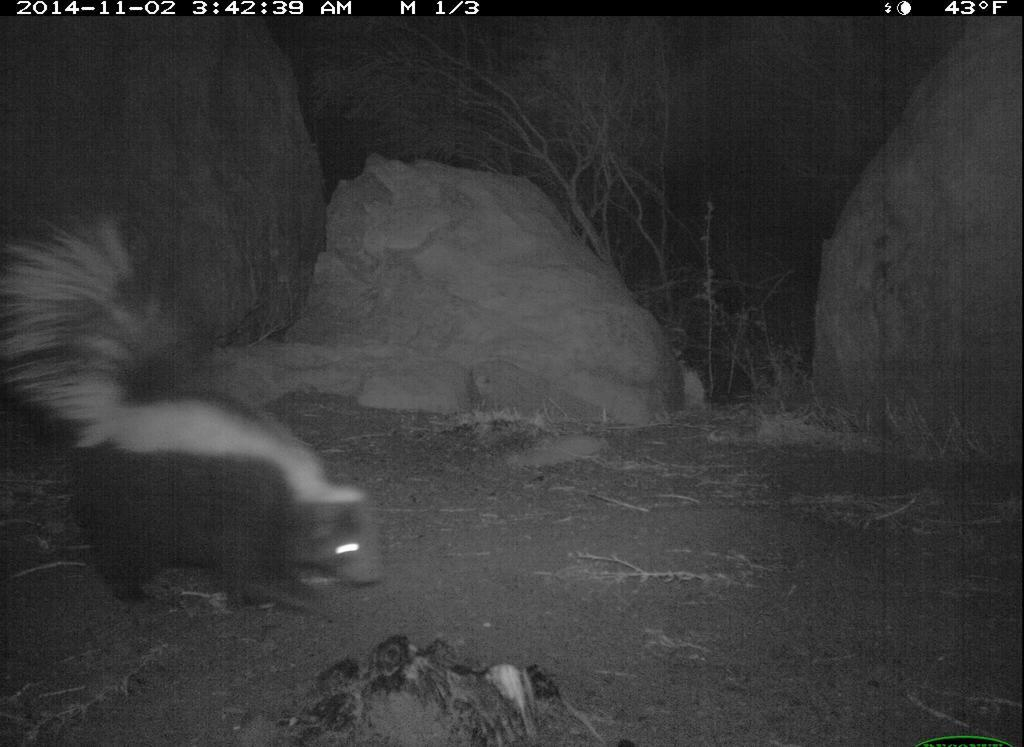skunk: (1, 200, 400, 625)
